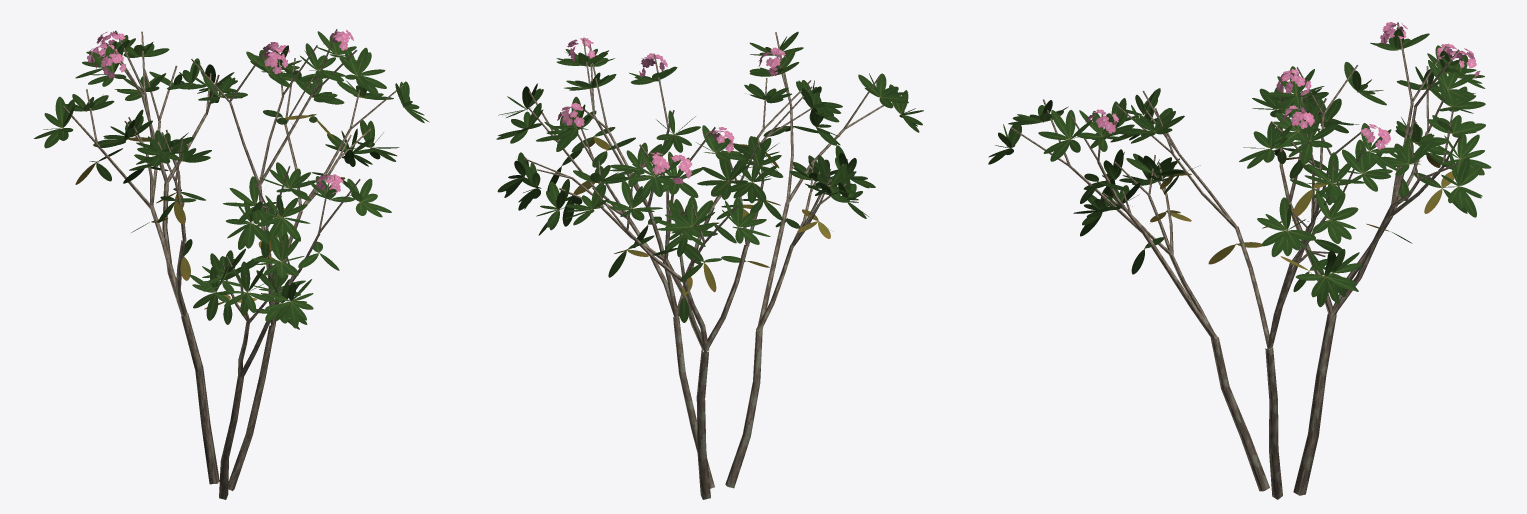
File: rhododendron.glb
3 renders of one model, left to right at view 1: azimuth 30°, elevation 25°; view 2: azimuth 150°, elevation 25°; view 3: azimuth 270°, elevation 25°, orthographic. The views are drawn at different scales.
Parts seen in each view (by area): view 1: rhododendron_a_lod0, rhododendron_a_flowers; view 2: rhododendron_a_lod0, rhododendron_a_flowers; view 3: rhododendron_a_lod0, rhododendron_a_flowers.
Boxes of the visible parts, left/top/right/bottom form: rhododendron_a_lod0: left=34, top=29, right=429, bottom=499; rhododendron_a_flowers: left=87, top=30, right=353, bottom=193; rhododendron_a_lod0: left=496, top=31, right=923, bottom=499; rhododendron_a_flowers: left=557, top=37, right=786, bottom=183; rhododendron_a_lod0: left=988, top=22, right=1491, bottom=499; rhododendron_a_flowers: left=1085, top=22, right=1480, bottom=149.
Size of what is drawn, in the model's own units: 2.1 by 2.45 by 2.61.
2 materials, 2 textured.
